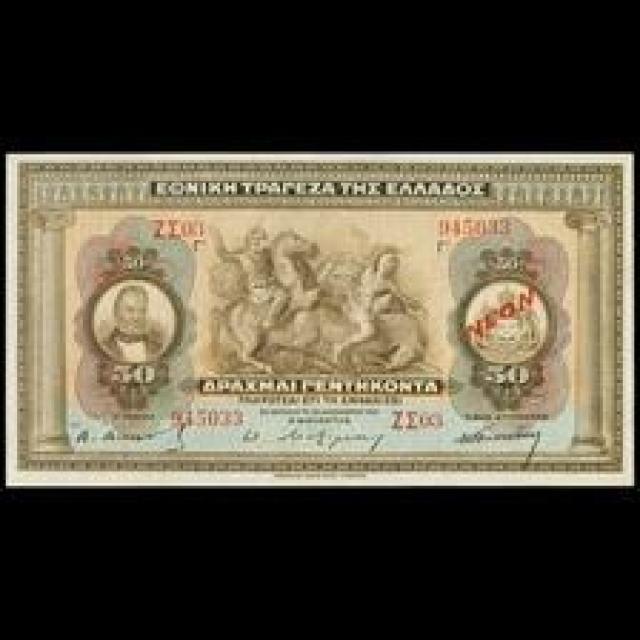banknote: (6, 153, 630, 484), (476, 356, 541, 394), (101, 356, 161, 394)
